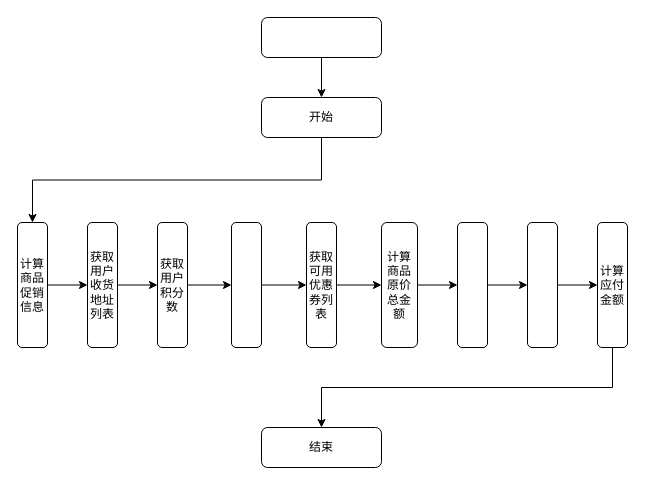
Some shapes in this 645 by 485 pixel diagram are drawn without their labels. The shapes that lost their labels are listed below. From the top down, each one's centre as x and y in pixels, then its label:
the point at 321,37: 购物车商品列表
the point at 246,285: 获取积分使用规则
the point at 472,285: 计算促销优惠总金额
the point at 542,285: 计算运费
